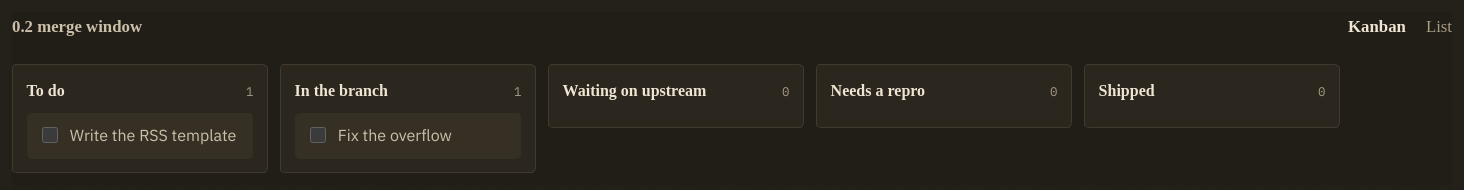
Test: BoardsPanel › shows the same cards flattened in the list view
What coordinates should you click on to do the following:
click the button "List"
I would click on:
 (1439, 28)
Its box is 1426,12 -> 1452,44.
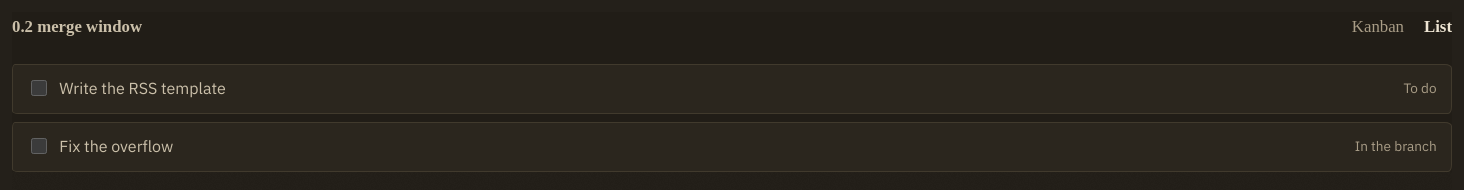
Expected: the number of list items is 2, 12,64 -> 1452,114; 12,122 -> 1452,172
Expected: the list item "Write the RSS template To do" is shown, 12,64 -> 1452,114
Expected: the list item "Fix the overflow In the branch" is shown, 12,122 -> 1452,172
